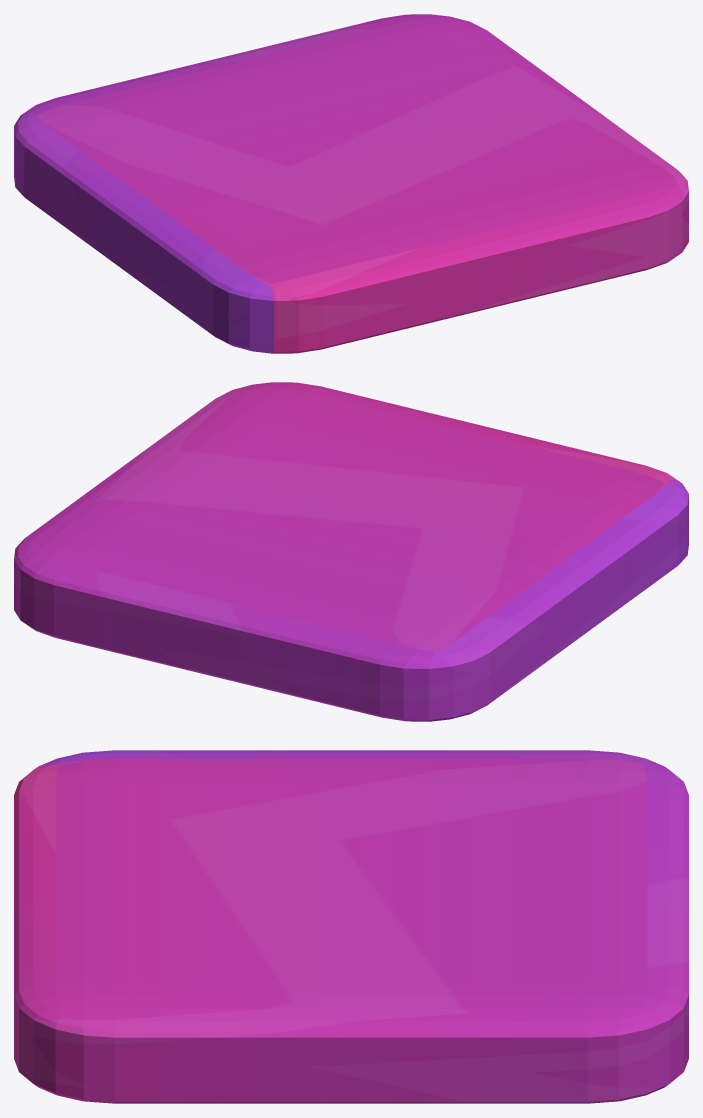
Rendered from tile.glb.
3 views of the same model, one above another, from view 1: azimuth 30°, elevation 25°; view 2: azimuth 150°, elevation 25°; view 3: azimuth 270°, elevation 25° (orthographic). The views are drawn at different scales.
Parts seen in each view (by area): view 1: Cube; view 2: Cube; view 3: Cube.
Boxes of the visible parts, left/top/right/bottom form: Cube: left=14, top=14, right=688, bottom=353; Cube: left=14, top=382, right=688, bottom=721; Cube: left=14, top=750, right=688, bottom=1103.
Size of the model in its own units: 2 by 0.2984 by 2.
Materials: 1 (1 with a texture image).
